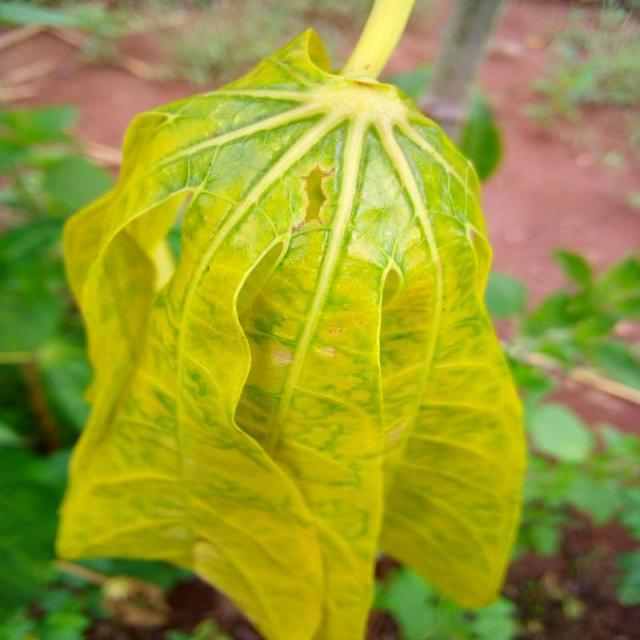cassava leaf: (54, 21, 528, 637)
